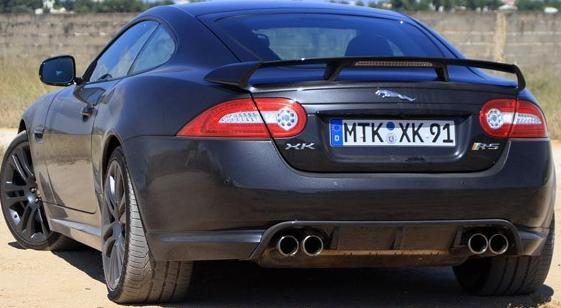back_view: (180, 66, 560, 261)
backlight: (173, 89, 313, 149)
side_glass: (77, 18, 179, 86)
